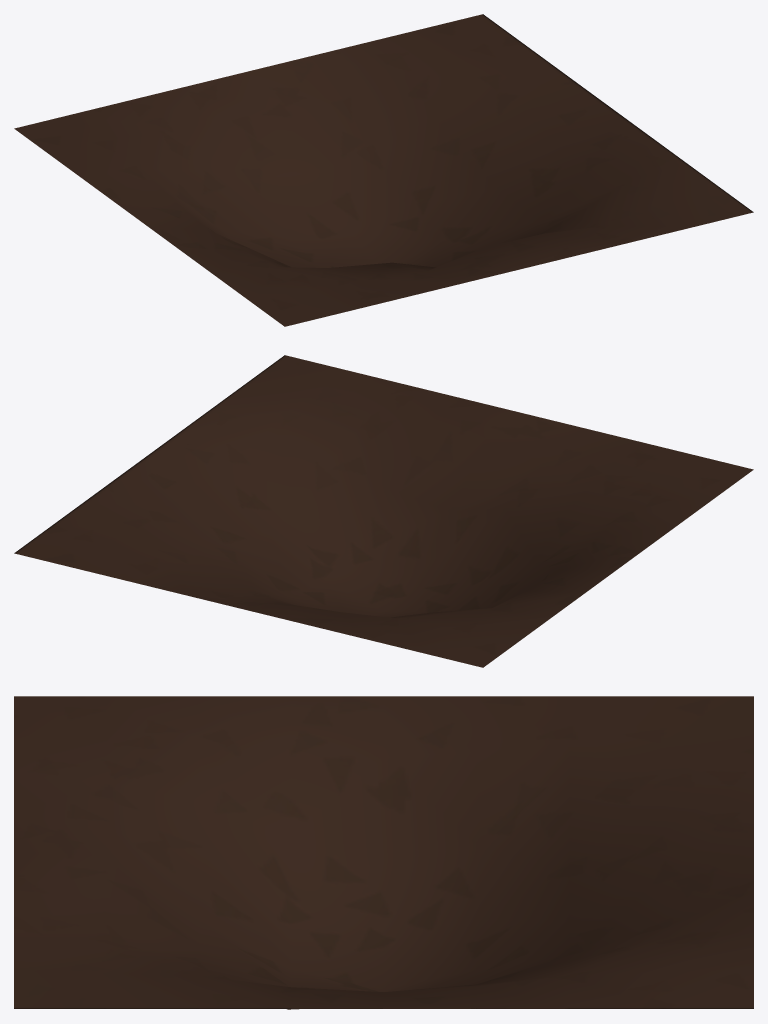
File: environment_pond_tile.fbx
3 views of the same model, one above another, from view 1: azimuth 30°, elevation 25°; view 2: azimuth 150°, elevation 25°; view 3: azimuth 270°, elevation 25° (orthographic). The views are drawn at different scales.
Parts seen in each view (by area): view 1: pPlane34; view 2: pPlane34; view 3: pPlane34.
Part boxes in pixels (bbox=[...]): pPlane34: bbox=[14, 14, 753, 326]; pPlane34: bbox=[14, 355, 753, 667]; pPlane34: bbox=[14, 696, 753, 1009].
Size of the model in its own units: 2161 by 440 by 2161.
